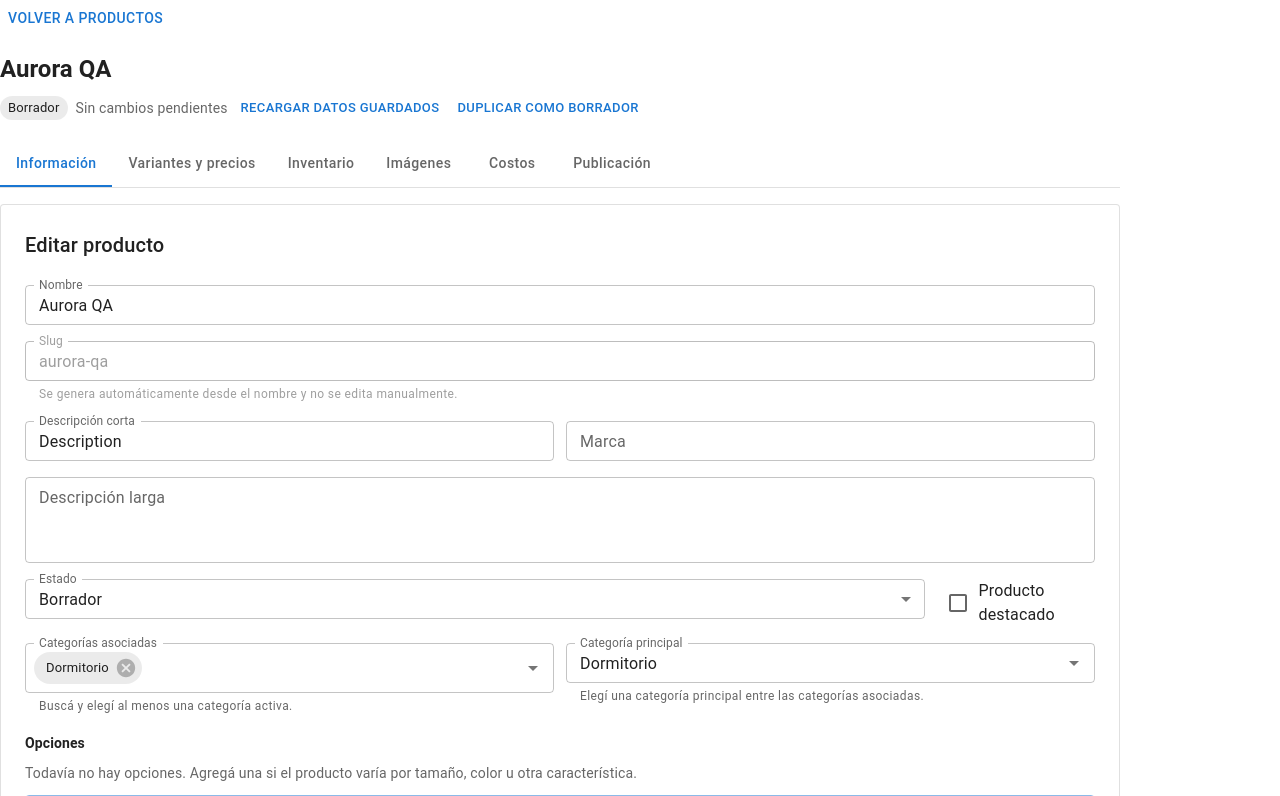
Test: routed product workspace › protects back links and registers the native unload warning
Replace the text in the field labelled "Nombre" with "Dirty" at [560, 305], box [25, 285, 1095, 325]
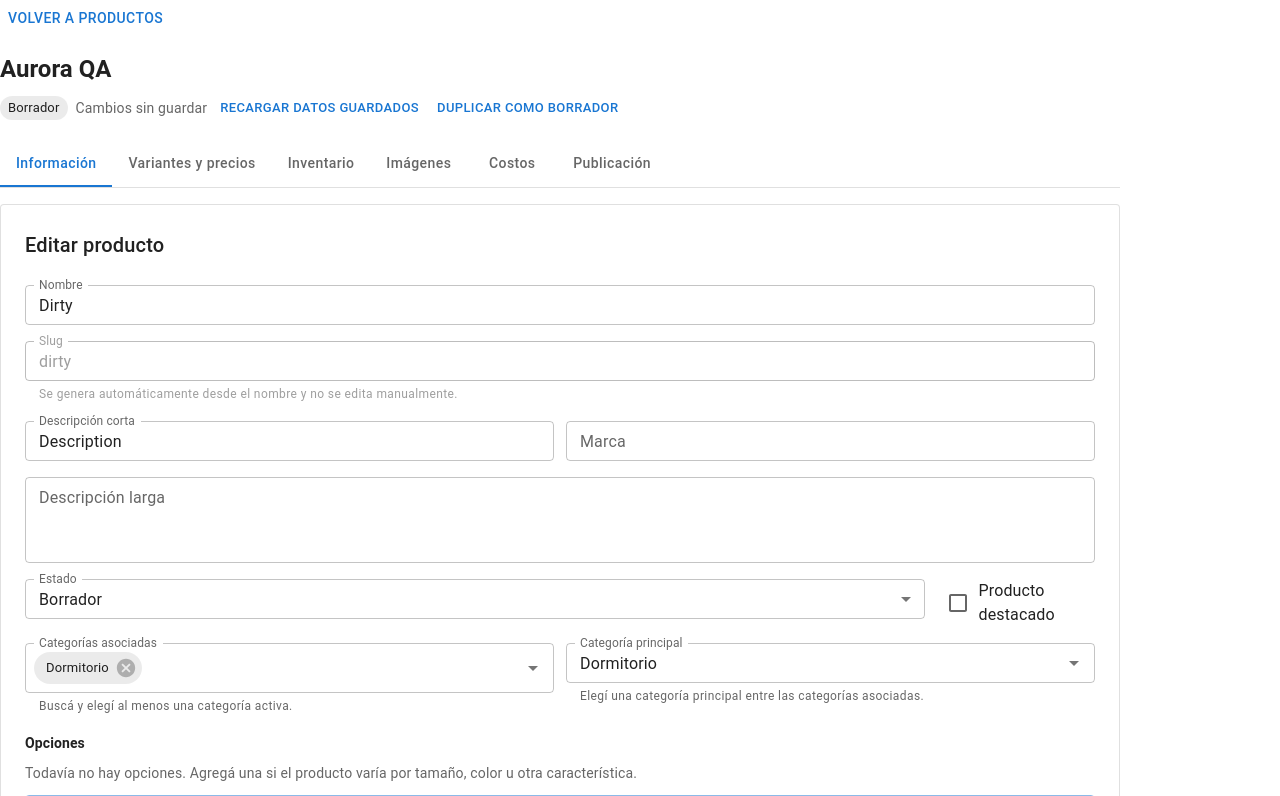
Click the link "Volver a productos" at [86, 18], box [8, 10, 163, 26]
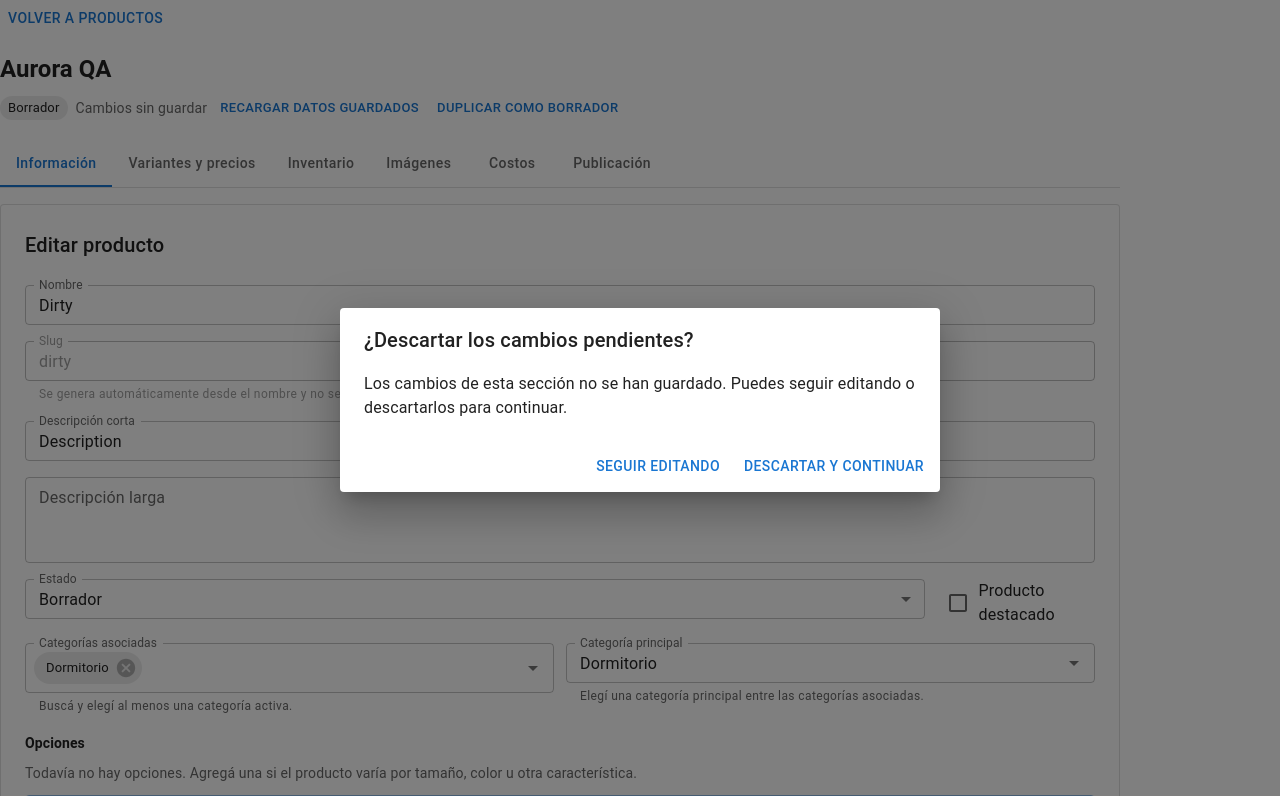
Result: the dialog shows "¿Descartar los cambios pendientes?" at [364, 328, 694, 352]
